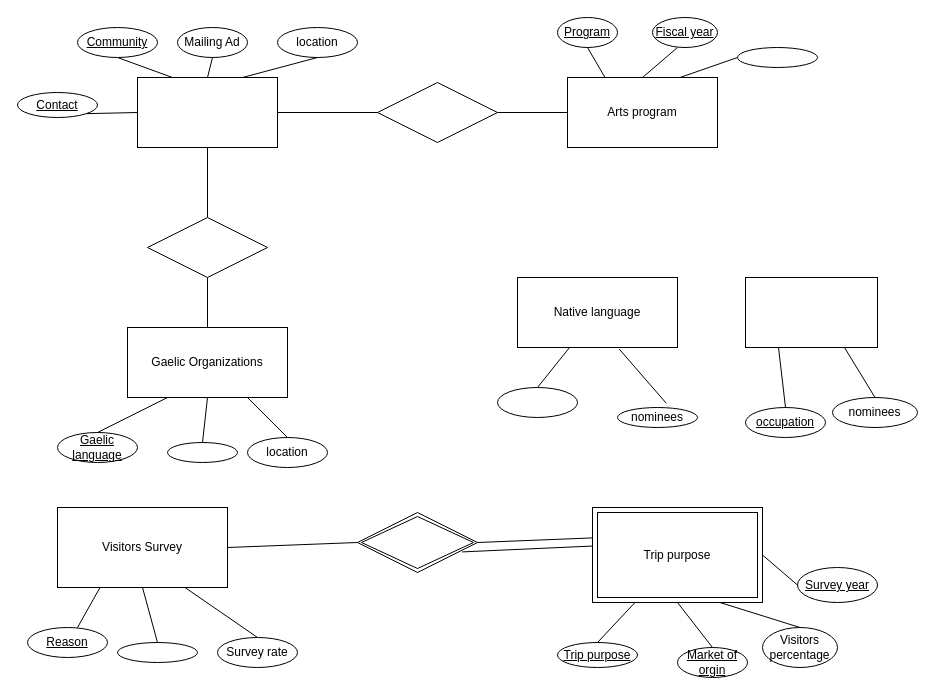
This 935x695 diagram has some shape labels left out. Here are the shapes that lost their labels. From the top down, the centre of each, then its label:
At (777,57): "total cost".
At (207,112): "Communities".
At (437,112): "Conducts".
At (207,247): "Support gaelic language".
At (811,312): "Labour market".
At (537,402): "language".
At (202,452): "City".
At (417,542): "Provide".
At (157,652): "Year".
